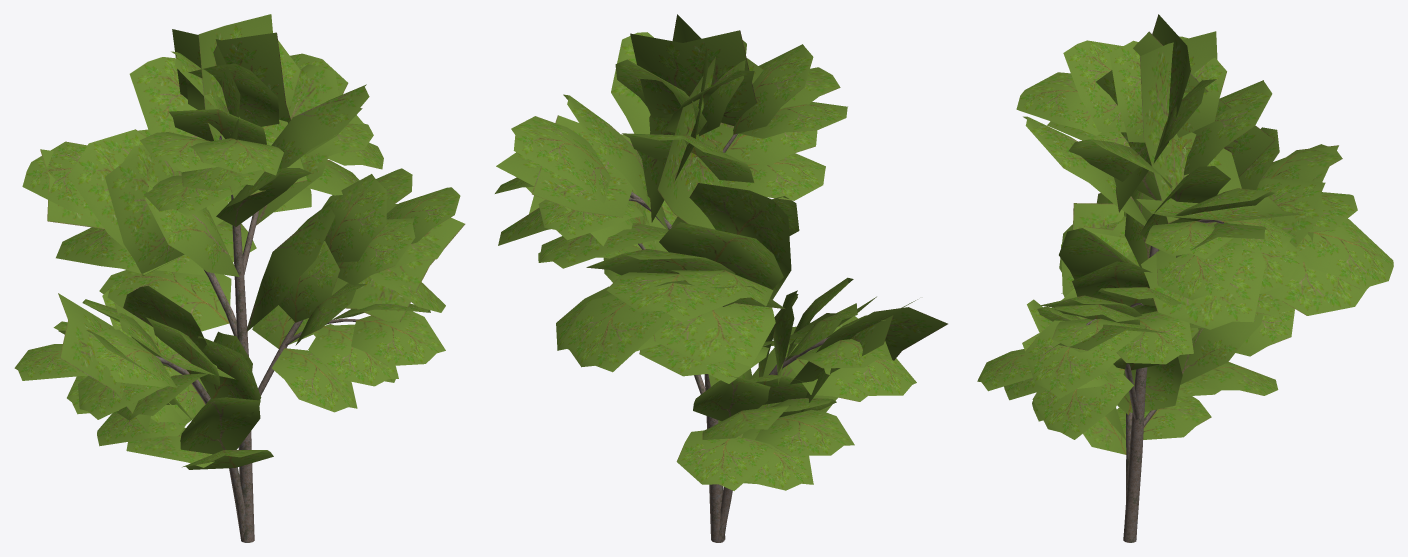
Rendered from tree_3.fbx.
The picture shows the model from 3 angles, left to right: view 1: azimuth 30°, elevation 25°; view 2: azimuth 150°, elevation 25°; view 3: azimuth 270°, elevation 25°; orthographic projection. The views are drawn at different scales.
Visible parts, largest first — view 1: Object003; view 2: Object003; view 3: Object003.
Part boxes in pixels (bbox=[...]): Object003: bbox=[14, 14, 465, 542]; Object003: bbox=[495, 14, 947, 542]; Object003: bbox=[977, 14, 1393, 542].
Size of the model in its own units: 1864 by 2243 by 1664.
